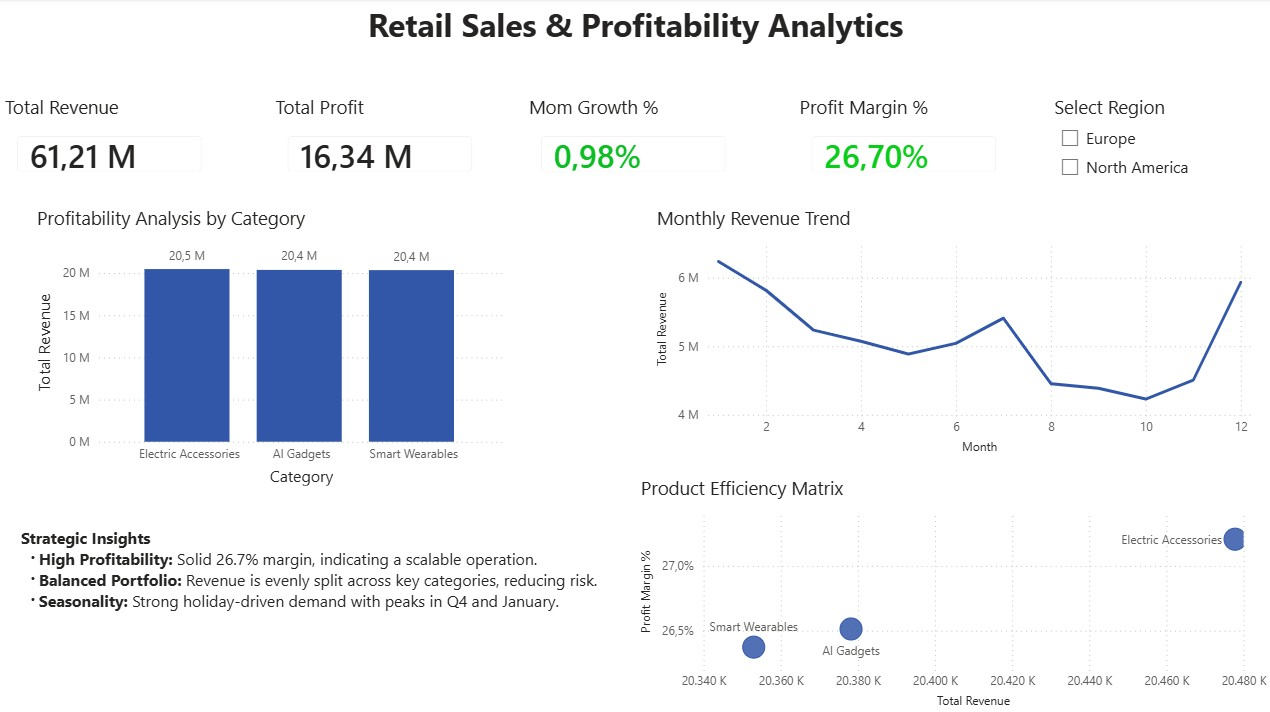

The page's visual inventory and layout, read from the dashboard file:
{"tool":"powerbi","page":{"name":"Página 1","canvas":[1280,720],"ordinal":0},"visuals":[{"type":"clusteredColumnChart","title":"Profitability Analysis by Category","fields":{"Category":["products_clean.category"],"Y":["_Medidas.Total Revenue"]},"box":[32,208,480,288],"z":0},{"type":"cardVisual","title":"Total Revenue","fields":{"Data":["_Medidas.Total Revenue"]},"box":[0,96,220,96],"z":1000},{"type":"cardVisual","title":"Total Profit","fields":{"Data":["_Medidas.Total Profit"]},"box":[272,96,220,96],"z":2000},{"type":"cardVisual","title":"Profit Margin %","fields":{"Data":["_Medidas.Profit Margin %"]},"box":[800,96,220,96],"z":3000},{"type":"lineChart","title":"Monthly Revenue Trend","fields":{"Category":["calendar_clean.month"],"Y":["_Medidas.Total Revenue"]},"box":[656,208,608,256],"z":4000},{"type":"slicer","title":"Select Region","fields":{"Values":["stores_clean.region"]},"box":[1056,96,220,96],"z":5000},{"type":"textbox","box":[0,0,1280,80],"z":6000},{"type":"textbox","box":[16,528,608,192],"z":6001},{"type":"scatterChart","title":"Product Efficiency Matrix","fields":{"Category":["products_clean.category"],"X":["_Medidas.Total Revenue"],"Y":["_Medidas.Profit Margin %"],"Size":["_Medidas.Total Revenue"]},"box":[640,480,640,240],"z":6002},{"type":"cardVisual","title":"Mom Growth %","fields":{"Data":["_Medidas.MoM Growth %"]},"box":[528,96,220,96],"z":6003}]}

Visuals, with their boxes in screenshot pixels (x1, y1, x2, y2), scaled from the page's 1280x720 canvas onto the 1270x712 screenshot:
"Profitability Analysis by Category" clusteredColumnChart: x1=32 y1=206 x2=508 y2=490
"Total Revenue" cardVisual: x1=0 y1=95 x2=218 y2=190
"Total Profit" cardVisual: x1=270 y1=95 x2=488 y2=190
"Profit Margin %" cardVisual: x1=794 y1=95 x2=1012 y2=190
"Monthly Revenue Trend" lineChart: x1=651 y1=206 x2=1254 y2=459
"Select Region" slicer: x1=1048 y1=95 x2=1266 y2=190
textbox: x1=0 y1=0 x2=1269 y2=79
textbox: x1=16 y1=522 x2=619 y2=711
"Product Efficiency Matrix" scatterChart: x1=635 y1=475 x2=1269 y2=711
"Mom Growth %" cardVisual: x1=524 y1=95 x2=742 y2=190
